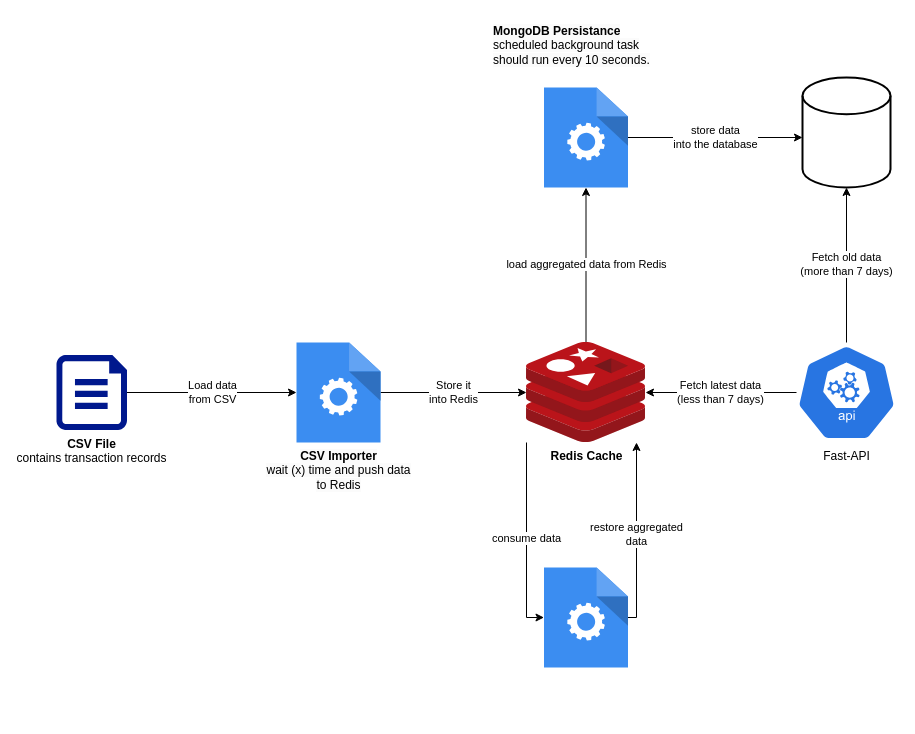
This 915x734 diagram has some shape labels left out. The shapes that lost their labels are listed below. From the top down, each one's centre as x and y in pixels, then its label:
point 846,132: MongoDB
point 586,617: Redis Aggregator continuously consume transactions from Redis
